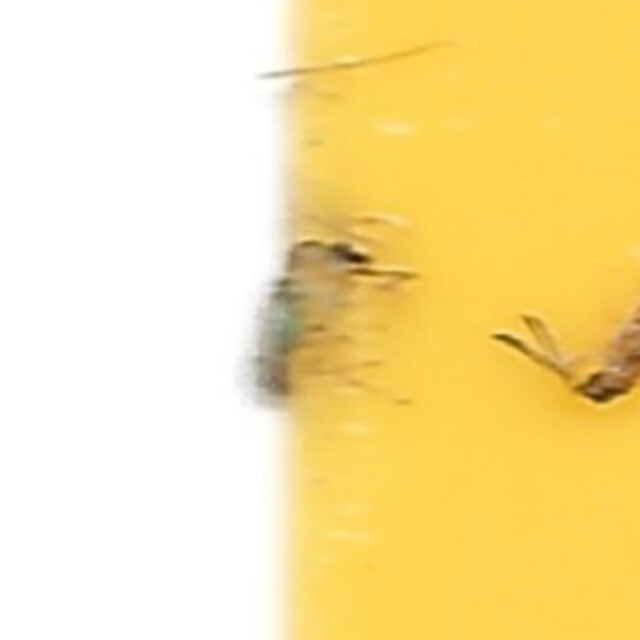Nematocera: (233, 217, 407, 423)
